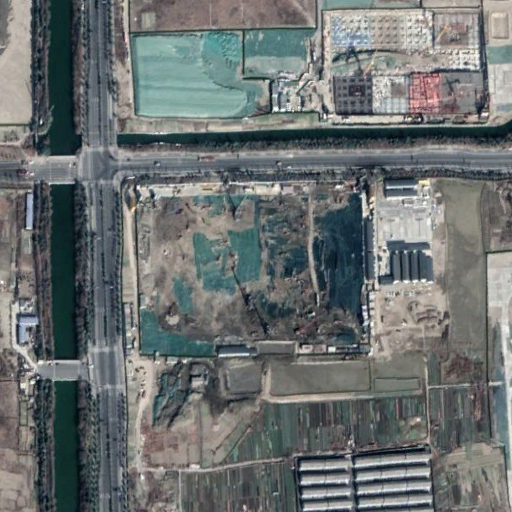cw: (135, 179, 367, 362), (133, 25, 328, 122)
